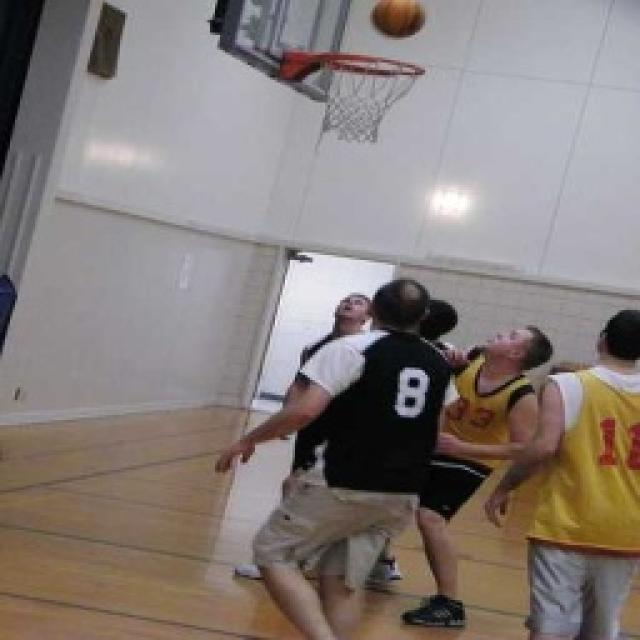rim: (369, 0, 429, 40)
